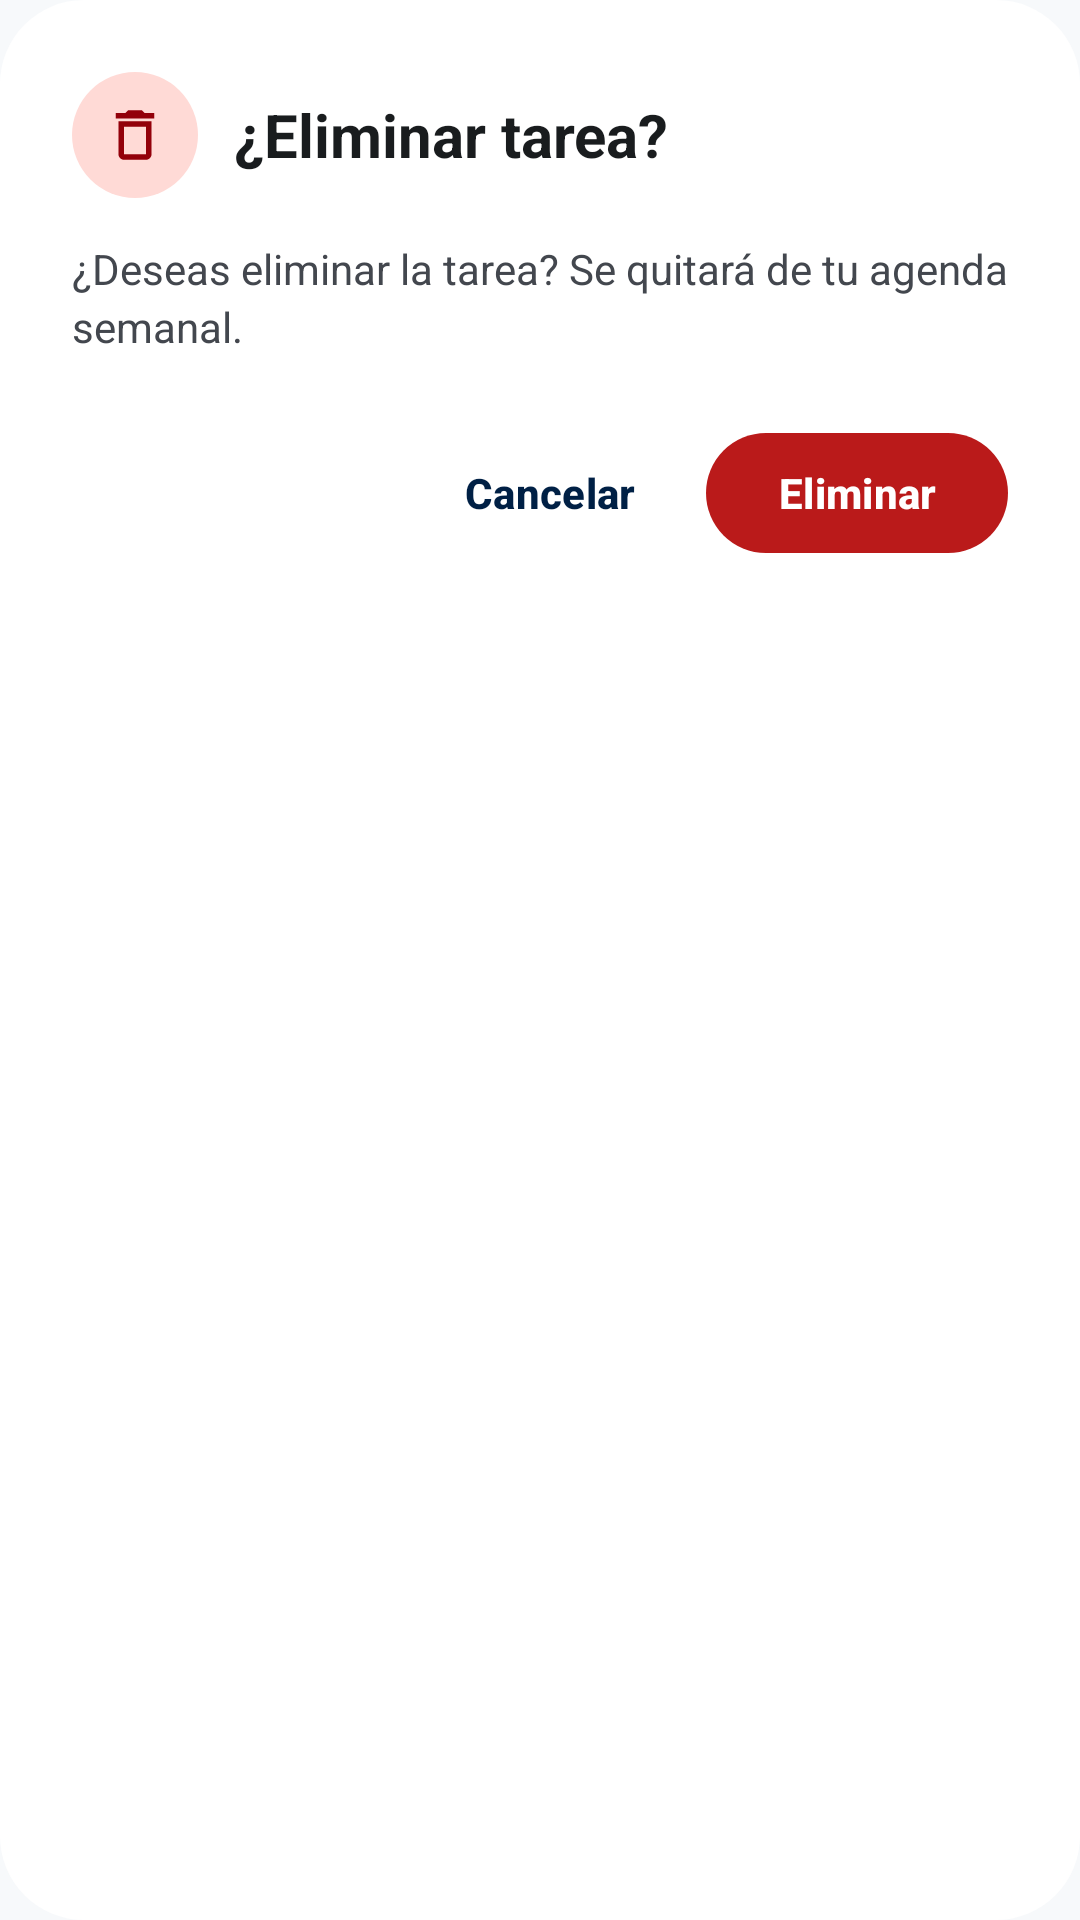

Icon click points for this 1080 × 1920 phone screenshot, format (x=x, y=y):
delete: (x=135, y=135)
